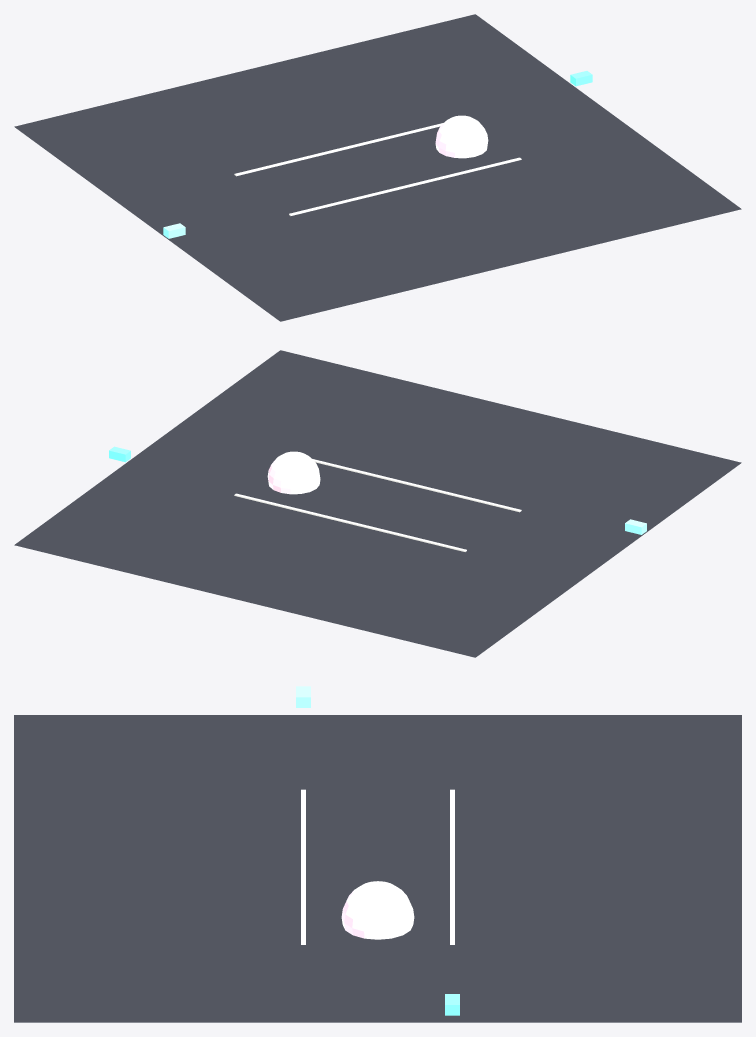
File: traffic-flow.glb
The picture shows the model from 3 angles, top to bottom: view 1: azimuth 30°, elevation 25°; view 2: azimuth 150°, elevation 25°; view 3: azimuth 270°, elevation 25°; orthographic projection. The views are drawn at different scales.
Visible parts, largest first — view 1: Ground, Hotspot, Lane_0, Lane_1; view 2: Ground, Hotspot, Lane_1, Lane_0; view 3: Ground, Hotspot, Lane_0, Lane_1.
Part boxes in pixels (x1=…): Ground: x1=14, y1=14, x2=741, y2=321; Hotspot: x1=435, y1=115, x2=488, y2=158; Lane_0: x1=289, y1=157, x2=521, y2=215; Lane_1: x1=234, y1=123, x2=443, y2=176; Ground: x1=14, y1=350, x2=741, y2=657; Hotspot: x1=267, y1=451, x2=320, y2=494; Lane_1: x1=234, y1=493, x2=466, y2=551; Lane_0: x1=312, y1=459, x2=521, y2=512; Ground: x1=14, y1=715, x2=741, y2=1022; Hotspot: x1=341, y1=881, x2=414, y2=939; Lane_0: x1=301, y1=789, x2=305, y2=944; Lane_1: x1=450, y1=789, x2=454, y2=944.
Size of the model in its own units: 4.56 by 0.44 by 4.4.
